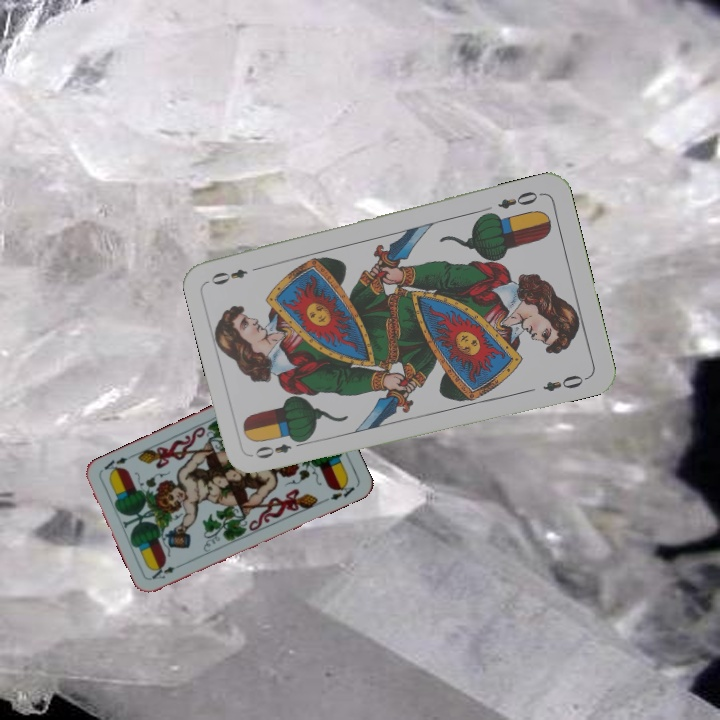EA: (148, 559, 186, 582)
EO: (250, 434, 308, 461), (494, 187, 545, 212)
